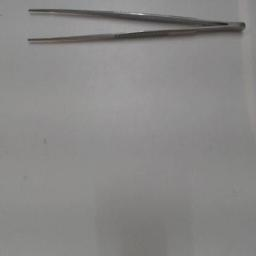DeBakey Dissector: (18, 5, 248, 53)
